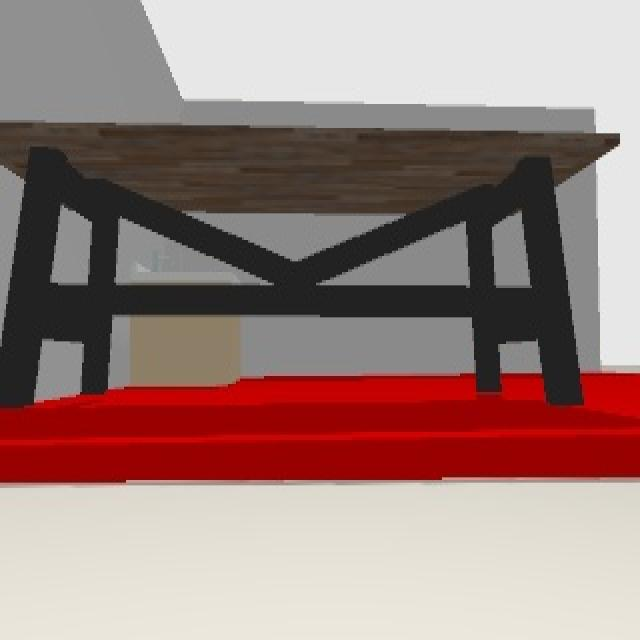dining: (1, 122, 622, 410)
